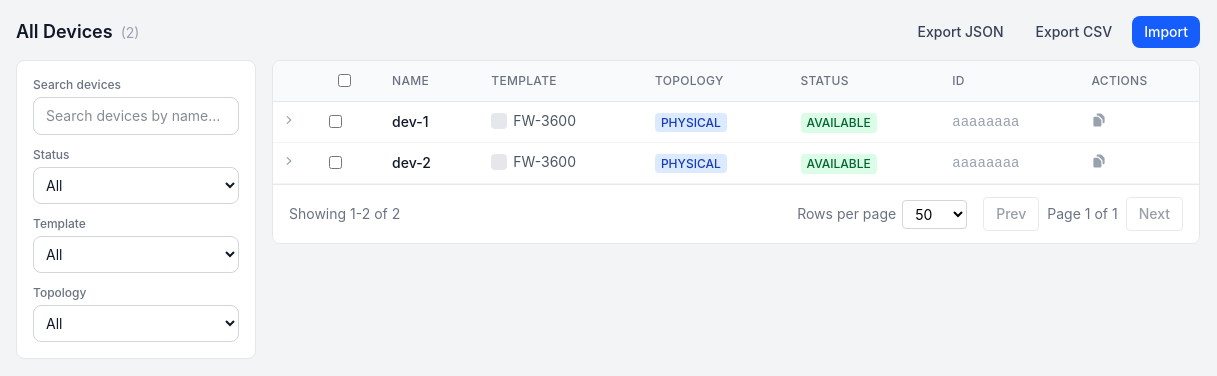
InventoryPage › select-all checkbox › selects and deselects every row
This screenshot has width=1217, height=376.
Expected: the text "dev-1" is shown, [376, 102, 475, 142]
Click the checkbox next to "Name".
click(344, 80)  # box [338, 74, 351, 87]
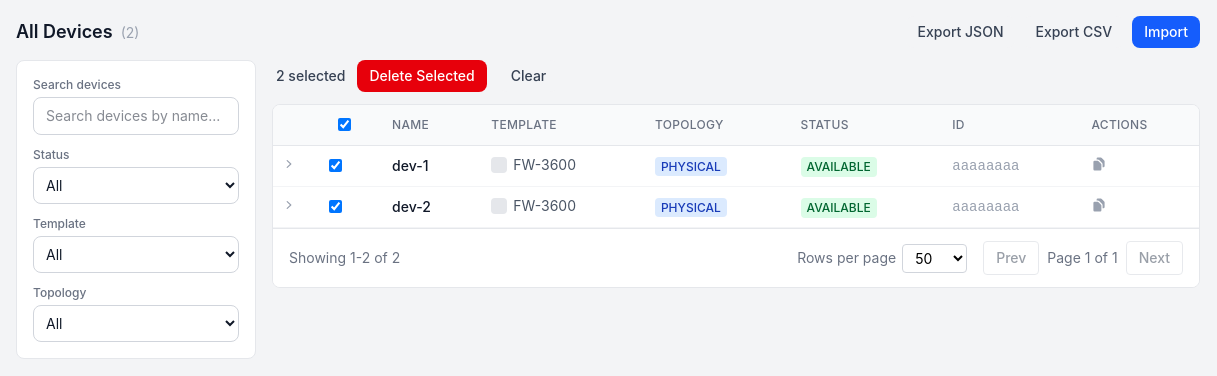
Now the text "2 selected" is shown, box [276, 66, 346, 86]
Click the checkbox next to "Name".
click(344, 124)  # box [338, 118, 351, 131]
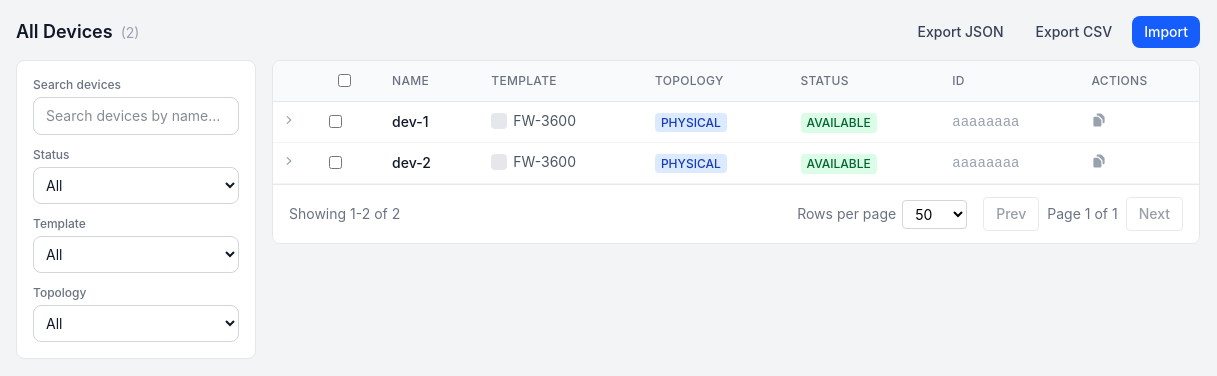
Now the text "selected" is gone
